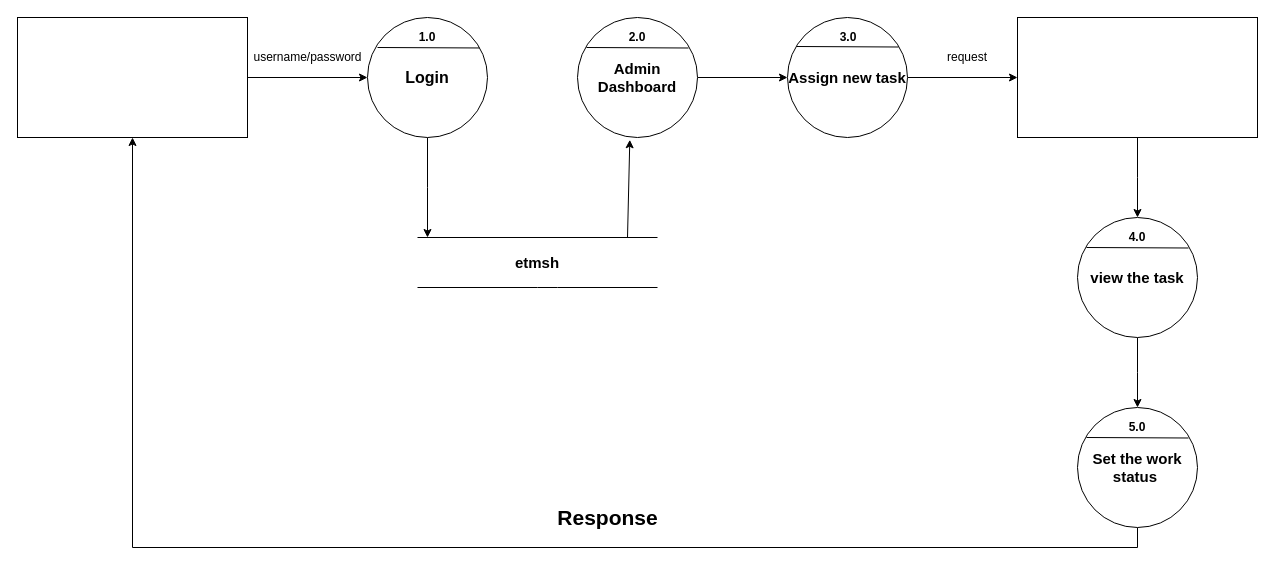
Image size: 1275x573. Some labels were removed from this diagram. Here are the shapes that lost their labels. From the top down, the centre of each, then its label:
At (x=132, y=77): "Admin".
At (x=1137, y=77): "Employee".
